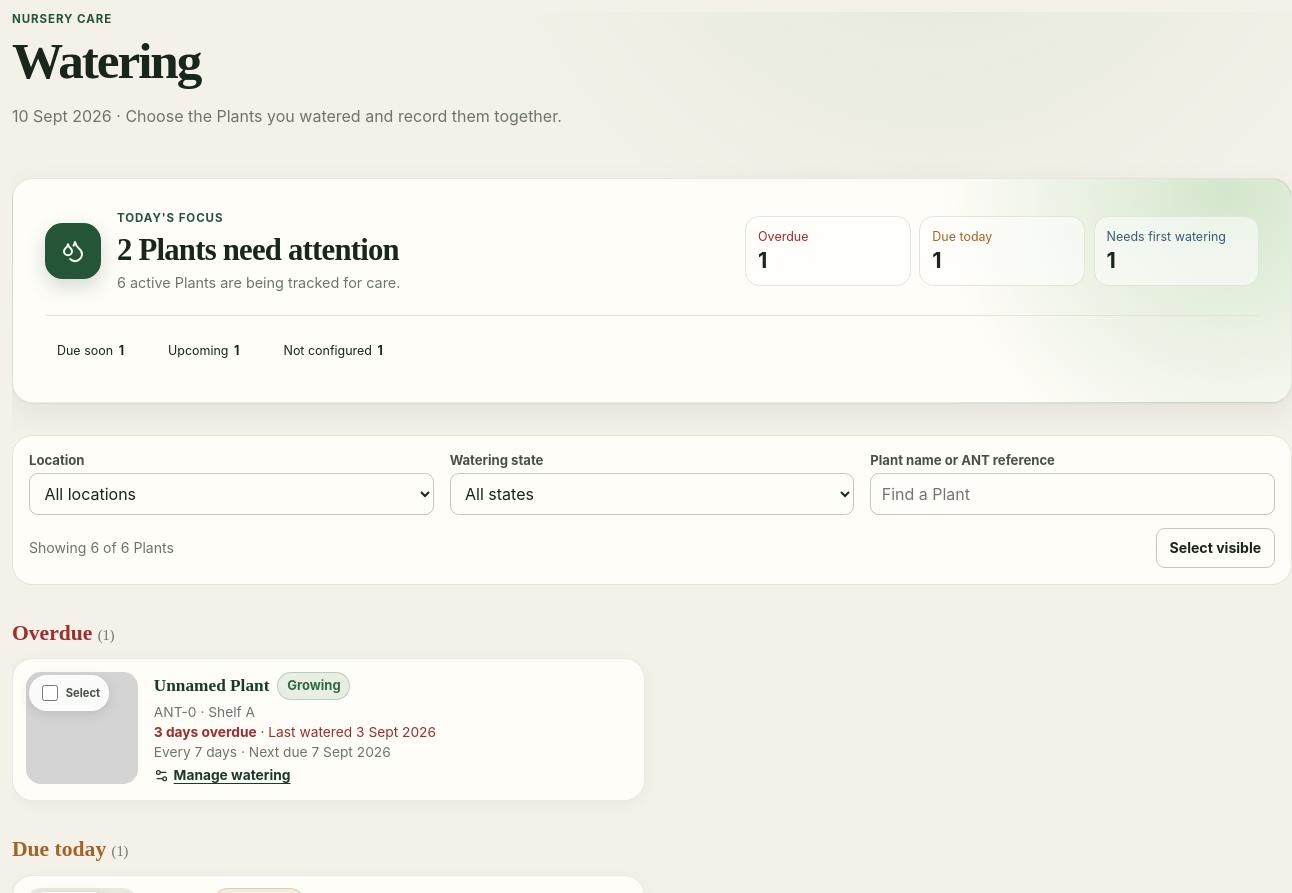
Scenario: filters the queue and selects only visible Plants
Select "No location" in the dropdown labelled "Location" at (231,494), box x1=29 y1=473 x2=434 y2=515
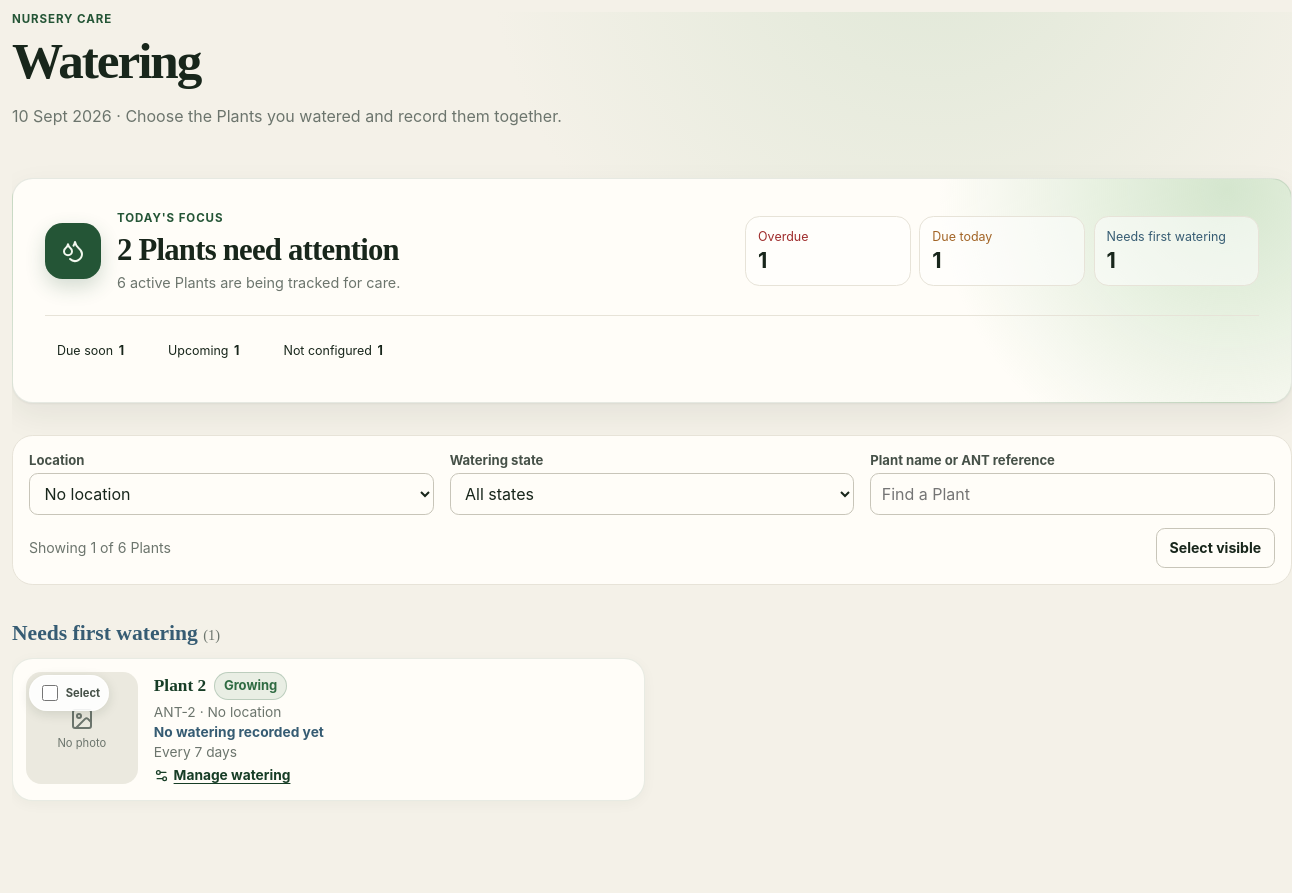
Check: the number of checkboxes is 1, box x1=42 y1=685 x2=58 y2=701
Check: the text "Showing 1 of 6 Plants" is shown, box x1=29 y1=539 x2=171 y2=556
Click the button "Select visible" at (1215,548), box x1=1156 y1=528 x2=1275 y2=568
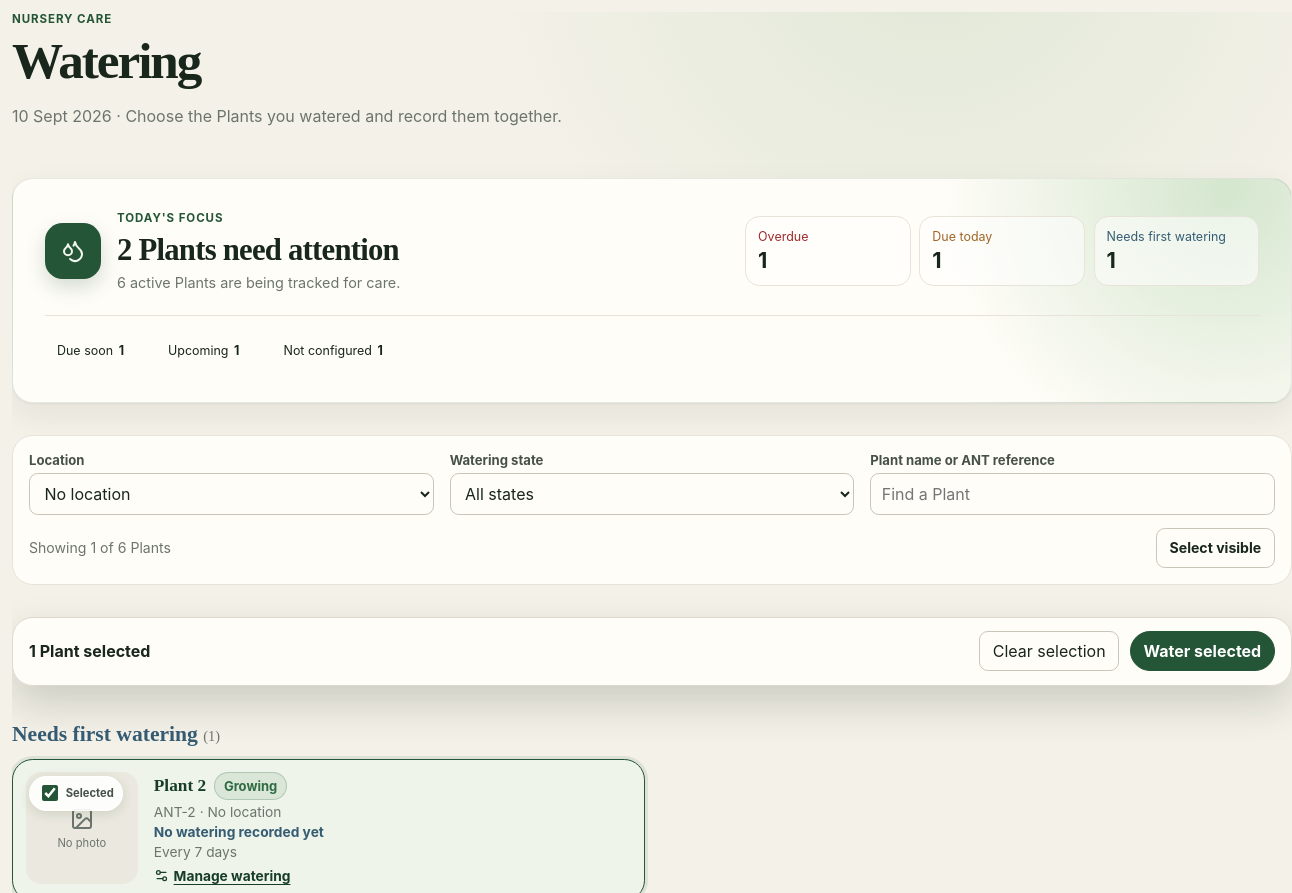
Check: the text "1 Plant selected" is shown, box x1=29 y1=641 x2=150 y2=661
Check: the checkbox is checked, box x1=42 y1=785 x2=58 y2=801
Select "Overdue" in the dropdown labelled "Watering state" at (652,494), box x1=450 y1=473 x2=854 y2=515
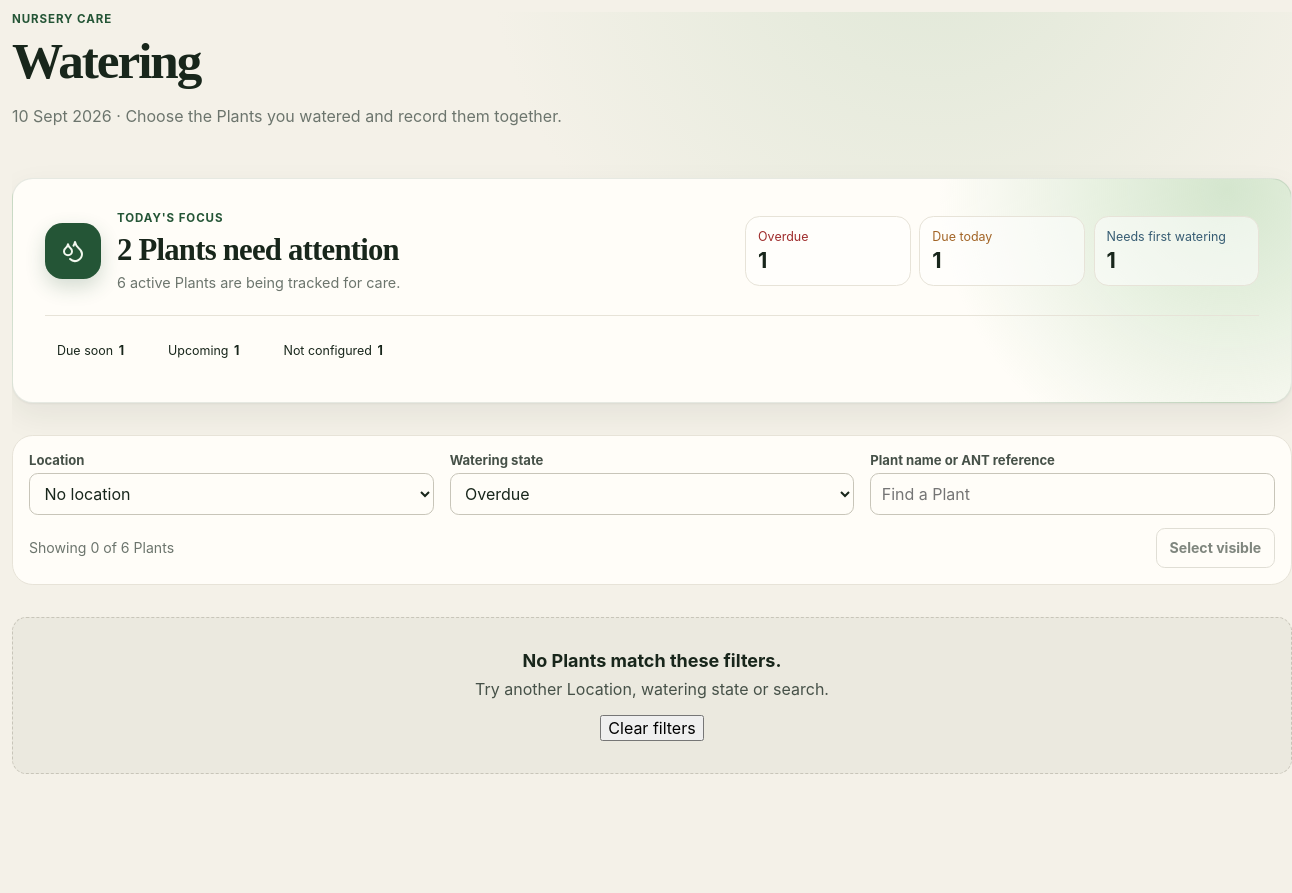
Check: the text "Showing 0 of 6 Plants" is shown, box x1=29 y1=539 x2=174 y2=556
Check: the text "1 Plant selected" is gone
Check: the heading "No Plants match these filters." is shown, box x1=522 y1=650 x2=781 y2=671
Click the button "Clear filters" at (652,728), box x1=600 y1=715 x2=704 y2=741
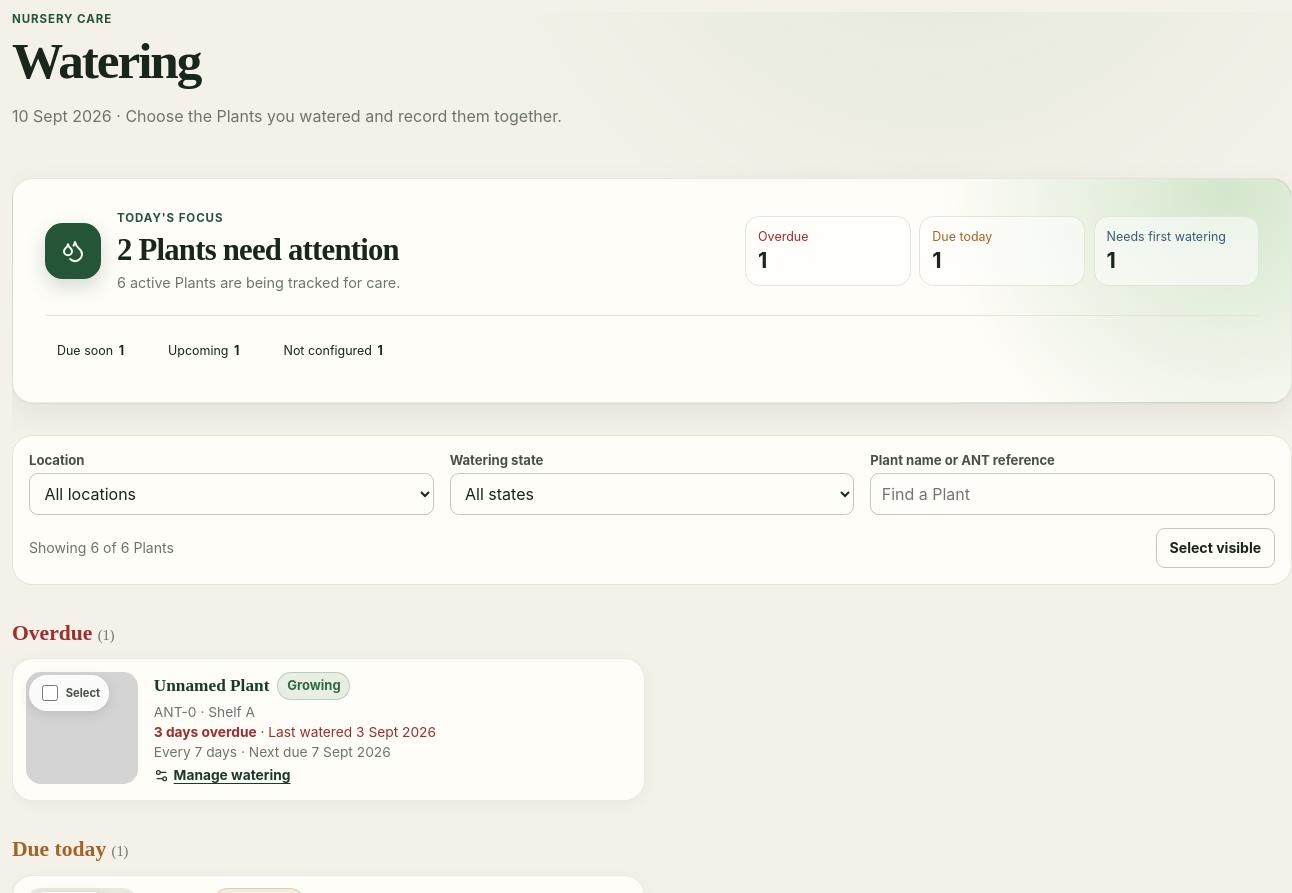
Check: the text "Showing 6 of 6 Plants" is shown, box x1=29 y1=539 x2=174 y2=556
